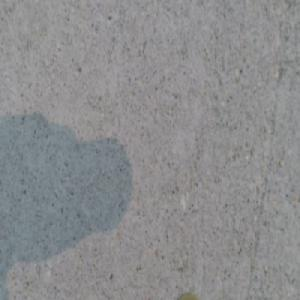Washer: (177, 290, 202, 300)
